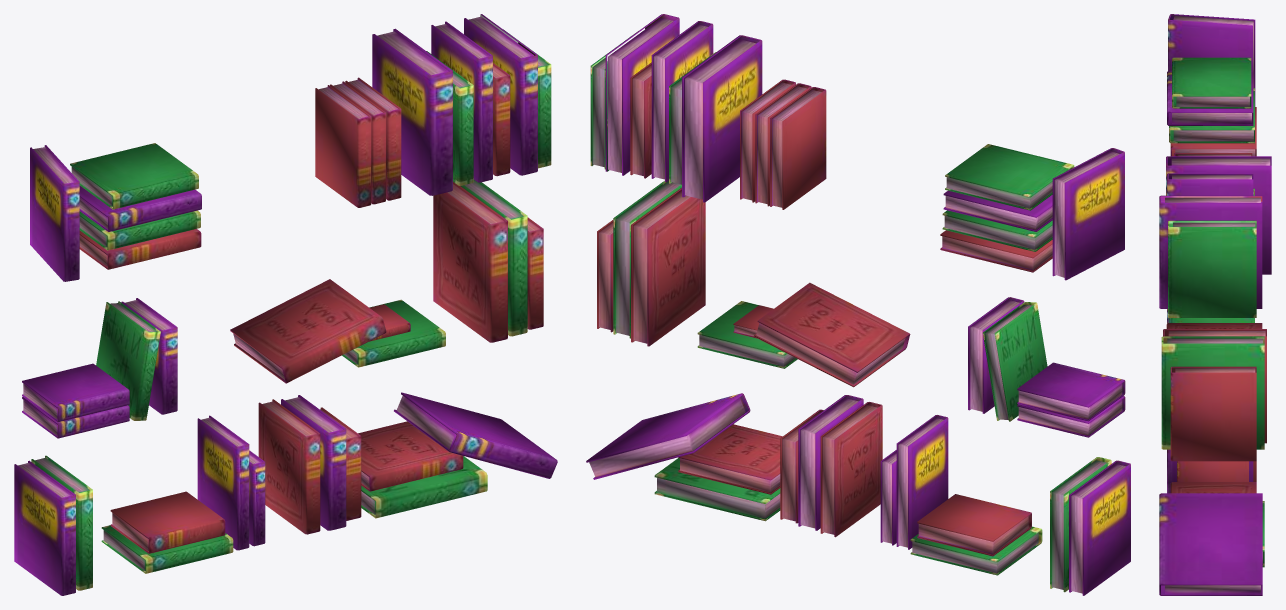
Rendered from bookshelvesExport3.fbx.
3 renders of one model, left to right at view 1: azimuth 30°, elevation 25°; view 2: azimuth 150°, elevation 25°; view 3: azimuth 270°, elevation 25°, orthographic. The views are drawn at different scales.
Parts seen in each view (by area): view 1: book.004; view 2: book.004; view 3: book.004.
Boxes of the visible parts, bbox=[...] form: book.004: bbox=[14, 14, 557, 595]; book.004: bbox=[586, 14, 1130, 595]; book.004: bbox=[1159, 14, 1271, 595].
Size of the model in its own units: 7.35 by 6.22 by 1.61.
